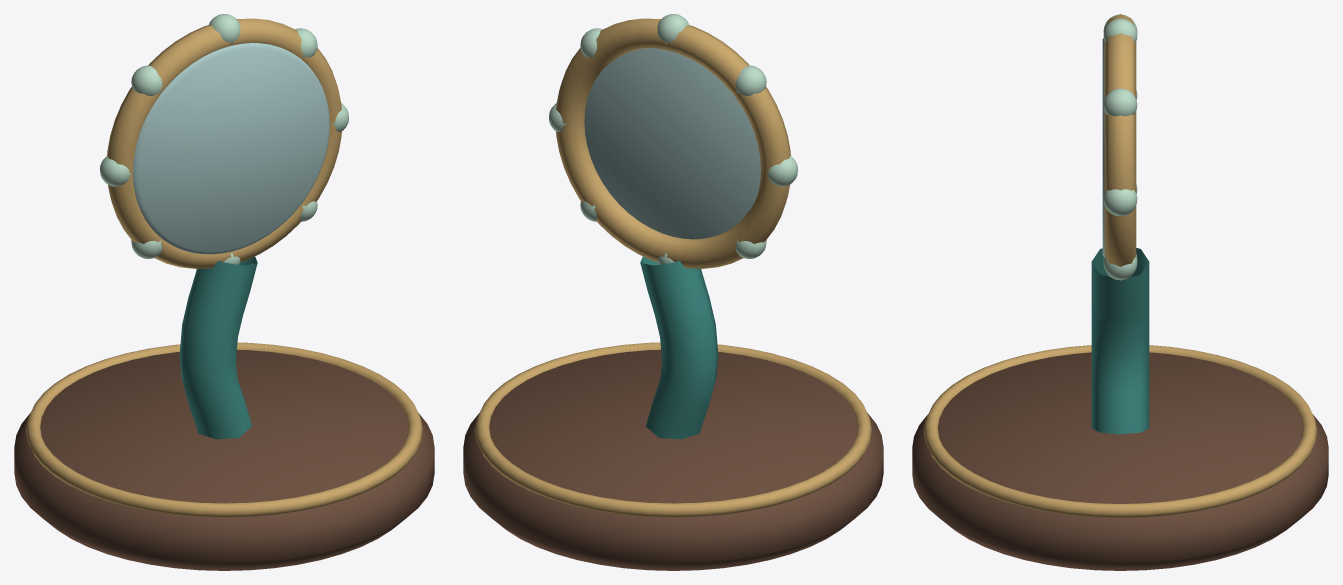
File: fellow.glb
3 views of the same model, side by side, from view 1: azimuth 30°, elevation 25°; view 2: azimuth 150°, elevation 25°; view 3: azimuth 270°, elevation 25° (orthographic).
Visible parts, largest first — view 1: fellow_Walnut carved edge, fellow_Polished silver, fellow_Brushed champagne brass, fellow_Glazed teal porcelain, fellow_Celadon milk glaze; view 2: fellow_Walnut carved edge, fellow_Brushed champagne brass, fellow_Polished silver, fellow_Glazed teal porcelain, fellow_Celadon milk glaze; view 3: fellow_Walnut carved edge, fellow_Brushed champagne brass, fellow_Glazed teal porcelain, fellow_Celadon milk glaze, fellow_Polished silver.
Boxes of the visible parts, x1,y1,x2,y2 form: fellow_Walnut carved edge: (14, 349, 434, 570); fellow_Polished silver: (133, 43, 329, 254); fellow_Brushed champagne brass: (26, 18, 422, 517); fellow_Glazed teal porcelain: (179, 256, 257, 439); fellow_Celadon milk glaze: (99, 14, 348, 264); fellow_Walnut carved edge: (463, 349, 883, 570); fellow_Brushed champagne brass: (475, 18, 871, 517); fellow_Polished silver: (584, 48, 760, 239); fellow_Glazed teal porcelain: (640, 256, 718, 439); fellow_Celadon milk glaze: (549, 14, 798, 264); fellow_Walnut carved edge: (912, 352, 1328, 570); fellow_Brushed champagne brass: (923, 14, 1317, 517); fellow_Glazed teal porcelain: (1091, 248, 1149, 434); fellow_Celadon milk glaze: (1103, 14, 1137, 279); fellow_Polished silver: (1102, 38, 1104, 257).
Bounding box in the file's own units: 0.98 × 1.22 × 0.98.
